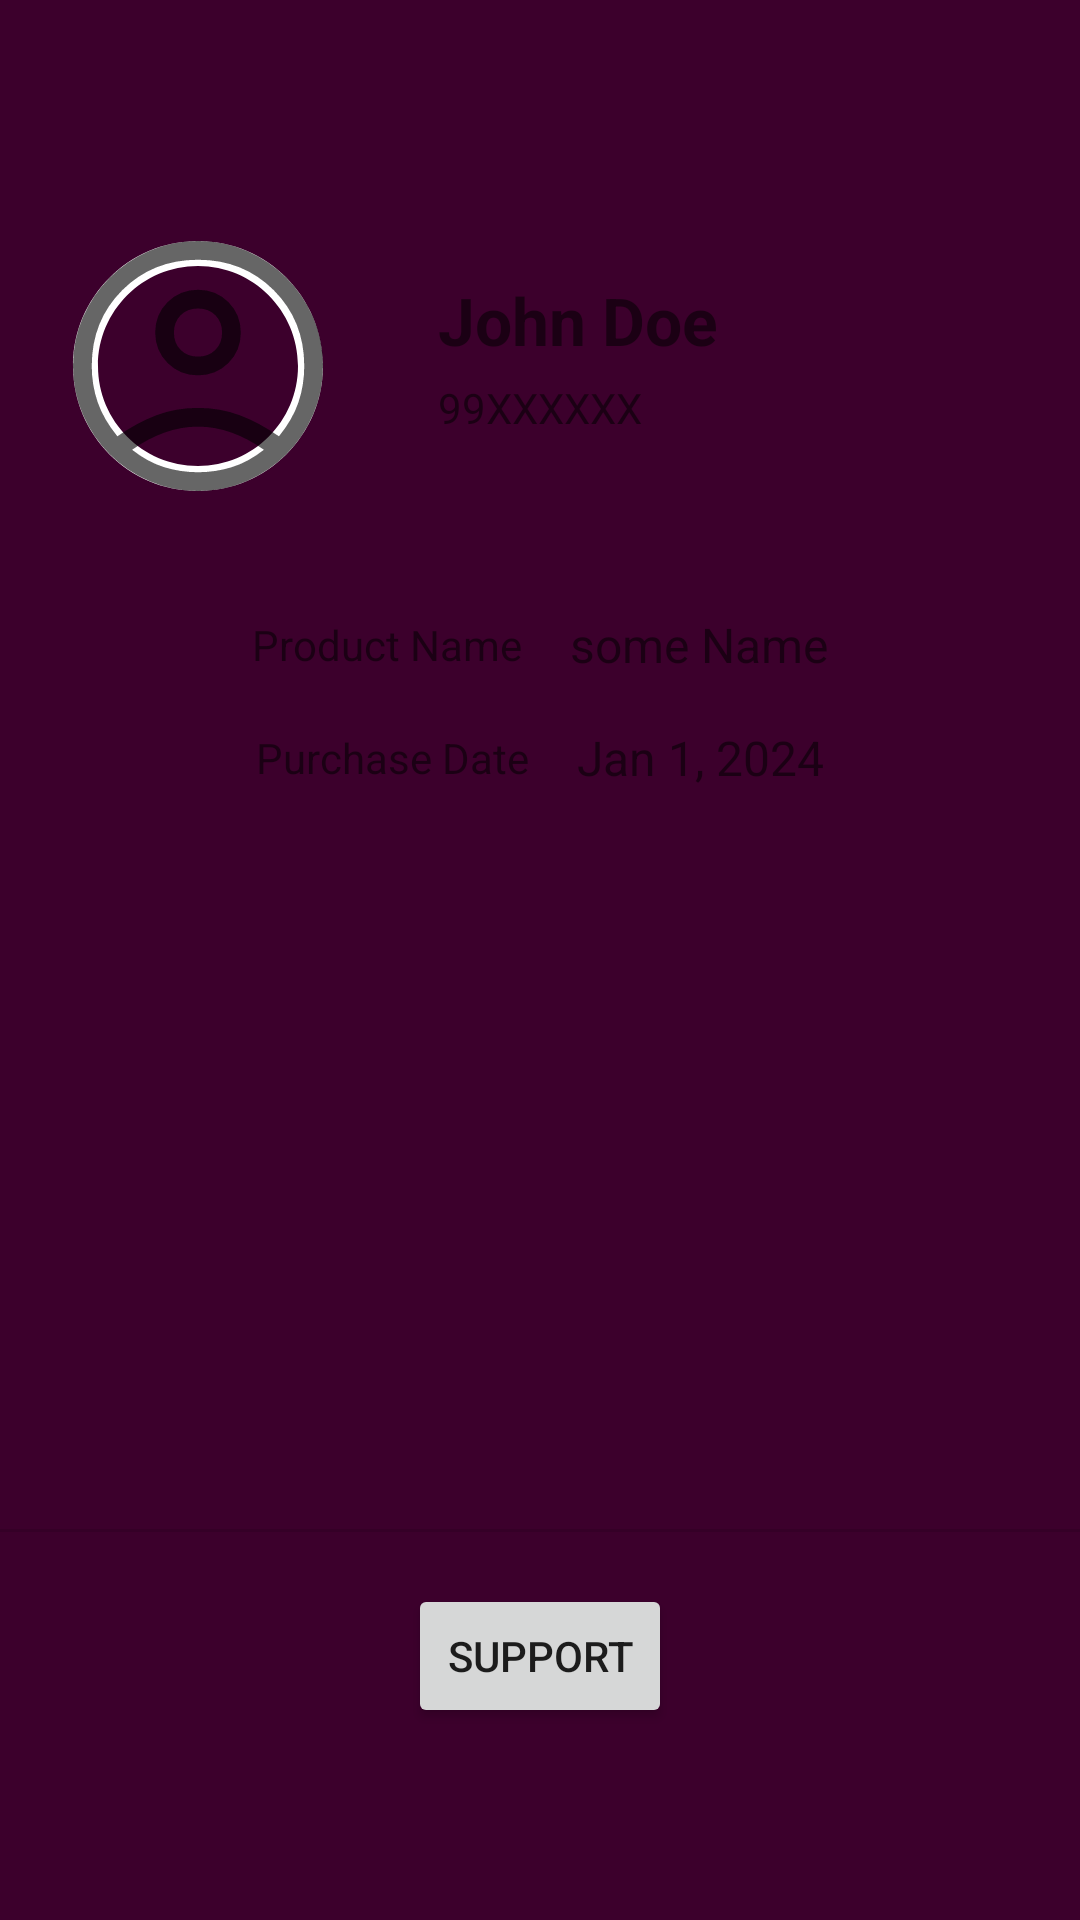

Icon click points for this 1080 × 1920 phone screenshot, format (x=x, y=y):
User Image: (x=198, y=366)
